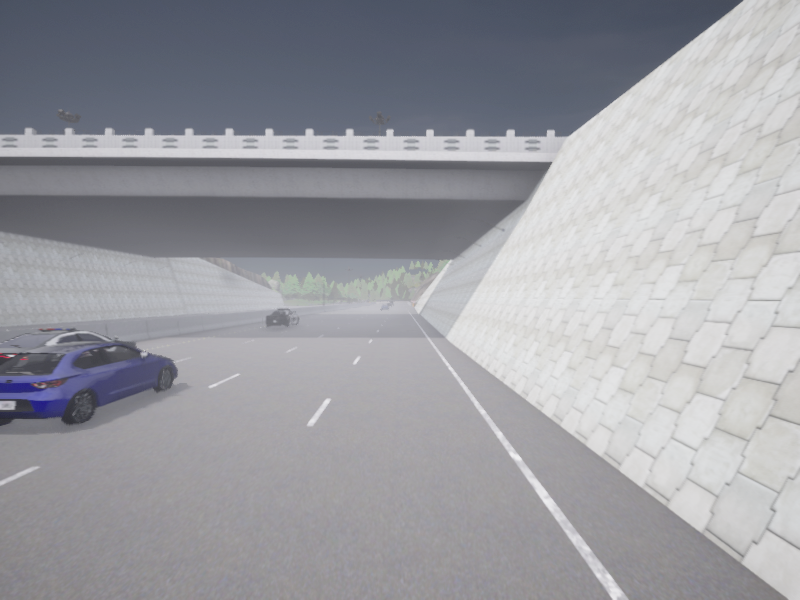vehicle: (0, 342, 177, 424), (0, 328, 136, 363), (266, 308, 298, 327), (381, 304, 388, 309), (387, 303, 391, 306), (390, 301, 393, 305)
